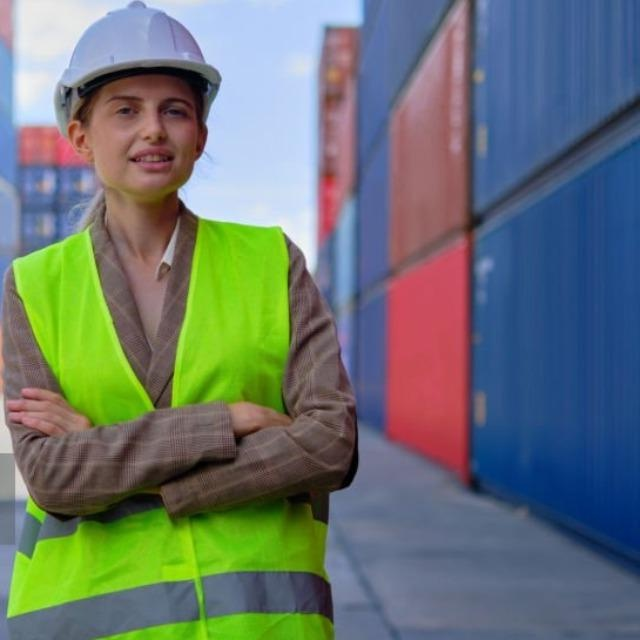Con_Casco: (49, 0, 223, 204)
Con_Chaleco: (1, 213, 325, 640)
